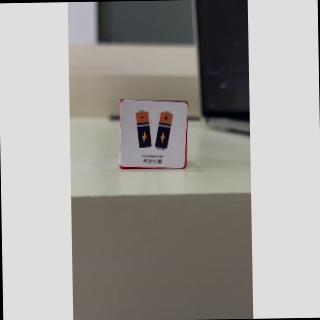Used_Battery: (116, 101, 189, 172)
